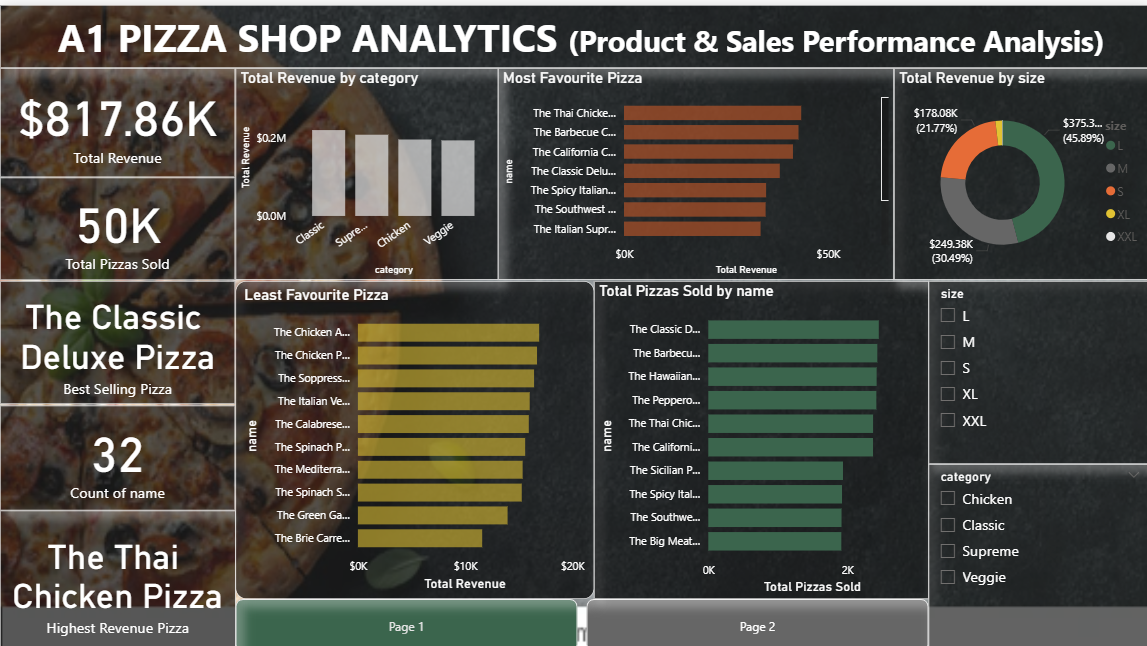

The page's visual inventory and layout, read from the dashboard file:
{"tool":"powerbi","page":{"name":"Page 2","canvas":[1280,720],"ordinal":1},"visuals":[{"type":"pageNavigator","box":[261.5,660,770.8,60],"z":0},{"type":"card","fields":{"Values":["order_details.Total Revenue"]},"box":[0,70.8,261.5,121.5],"z":1000},{"type":"card","fields":{"Values":["order_details.Total Pizzas Sold"]},"box":[0,192.3,261.5,113.8],"z":2000},{"type":"card","fields":{"Values":["pizzas.Best Selling Pizza"]},"box":[0,306.2,261.5,136.9],"z":3000},{"type":"card","fields":{"Values":["pizzas.Highest Revenue Pizza"]},"box":[0,561.7,261.7,158.3],"z":4000},{"type":"card","fields":{"Values":["Count(pizza_types.name)"]},"box":[0,444.6,261.5,116.9],"z":5000},{"type":"clusteredBarChart","title":"Most Favourite Pizza","fields":{"Y":["order_details.Total Revenue"],"Category":["pizza_types.name"]},"box":[553.8,70.8,440,235.4],"z":6000},{"type":"clusteredBarChart","title":"Least Favourite Pizza","fields":{"Y":["order_details.Total Revenue"],"Category":["pizza_types.name"]},"box":[261.7,306.7,398.3,353.3],"z":7000},{"type":"clusteredBarChart","fields":{"Category":["pizza_types.name"],"Y":["order_details.Total Pizzas Sold"]},"box":[660,306.7,371.7,353.3],"z":8000},{"type":"clusteredColumnChart","fields":{"Category":["pizza_types.category"],"Y":["order_details.Total Revenue"]},"box":[261.5,70.8,292.3,235.4],"z":9000},{"type":"donutChart","fields":{"Category":["pizzas.size"],"Y":["order_details.Total Revenue"]},"box":[993.8,70.8,286.2,235.4],"z":10000},{"type":"slicer","fields":{"Values":["pizza_types.category"]},"box":[1032.3,509.2,247.7,210.8],"z":11000},{"type":"slicer","fields":{"Values":["pizzas.size"]},"box":[1032.3,306.2,247.7,203.1],"z":12000},{"type":"textbox","box":[0,0,1280,70],"z":13000}]}

Visuals, with their boxes in screenshot pixels (x1, y1, x2, y2), scaled from the page's 1280x720 canvas onto the 1147x646 screenshot:
pageNavigator: [234, 592, 925, 645]
card - order_details.Total Revenue: [0, 64, 234, 173]
card - order_details.Total Pizzas Sold: [0, 173, 234, 275]
card - pizzas.Best Selling Pizza: [0, 275, 234, 398]
card - pizzas.Highest Revenue Pizza: [0, 504, 235, 645]
card - Count(pizza_types.name): [0, 399, 234, 504]
"Most Favourite Pizza" clusteredBarChart: [496, 64, 891, 275]
"Least Favourite Pizza" clusteredBarChart: [235, 275, 591, 592]
clusteredBarChart - pizza_types.name x order_details.Total Pizzas Sold: [591, 275, 924, 592]
clusteredColumnChart - pizza_types.category x order_details.Total Revenue: [234, 64, 496, 275]
donutChart - pizzas.size x order_details.Total Revenue: [891, 64, 1146, 275]
slicer - pizza_types.category: [925, 457, 1146, 645]
slicer - pizzas.size: [925, 275, 1146, 457]
textbox: [0, 0, 1146, 63]
